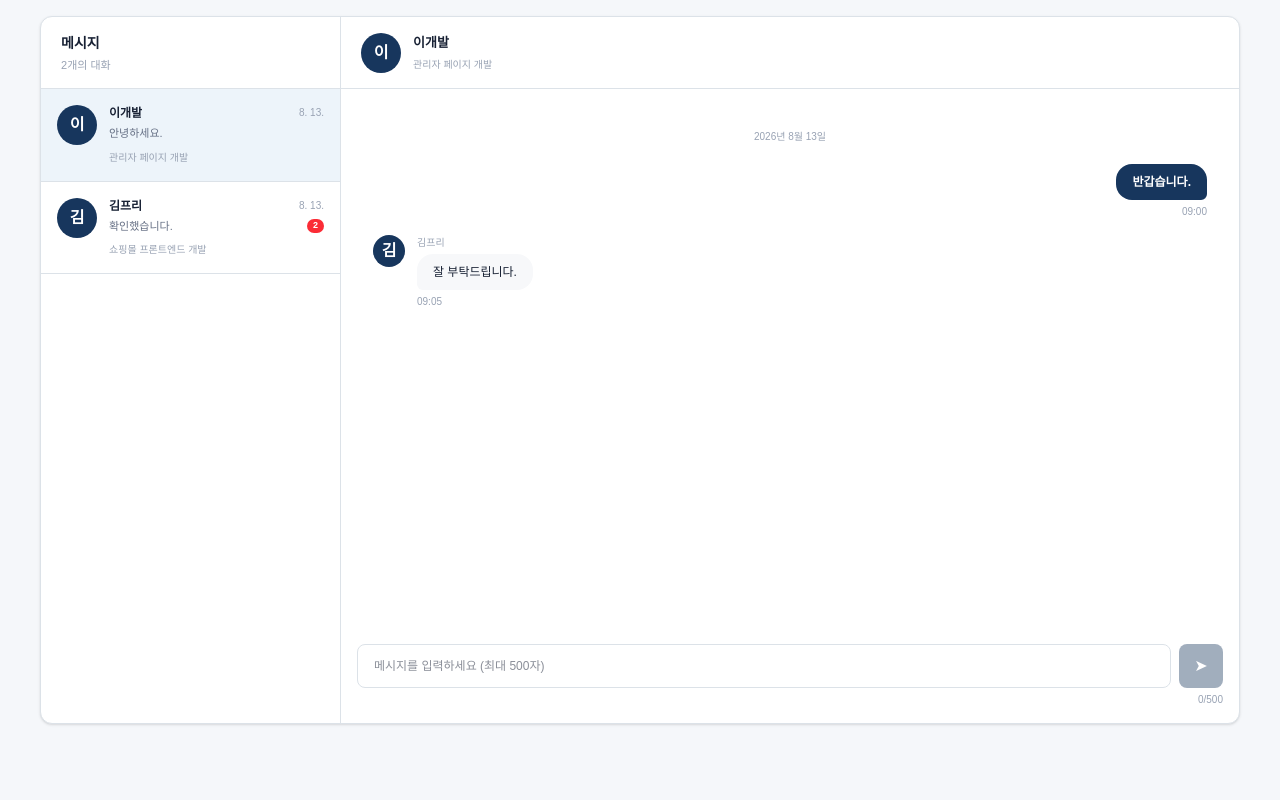
Test: Chat › 메시지 전송 실패 시 입력값을 유지하고 오류 코드 안내를 표시한다
This screenshot has width=1280, height=800.
In the field labelled "메시지": (764, 666) [357, 644, 1171, 688], type "실패 메시지"
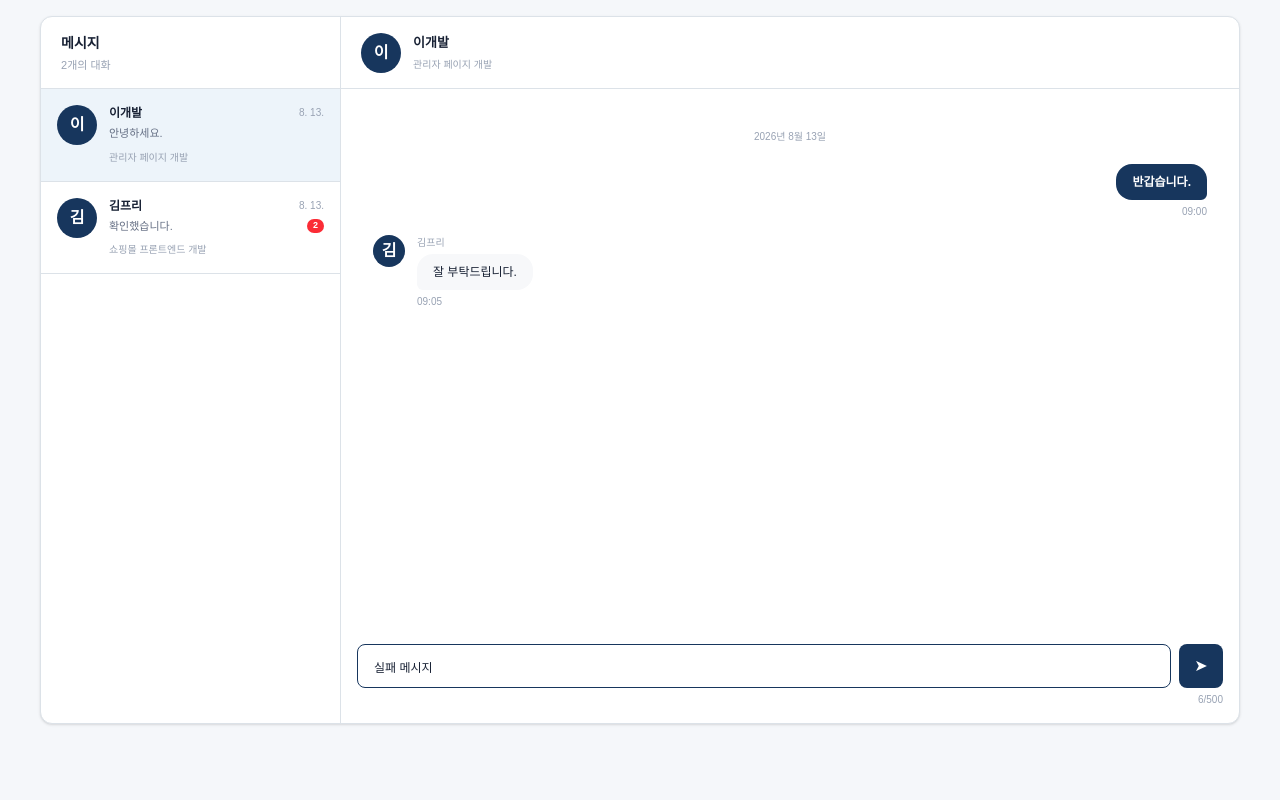
Click the button named "메시지 보내기": (1201, 666) [1179, 644, 1223, 688]
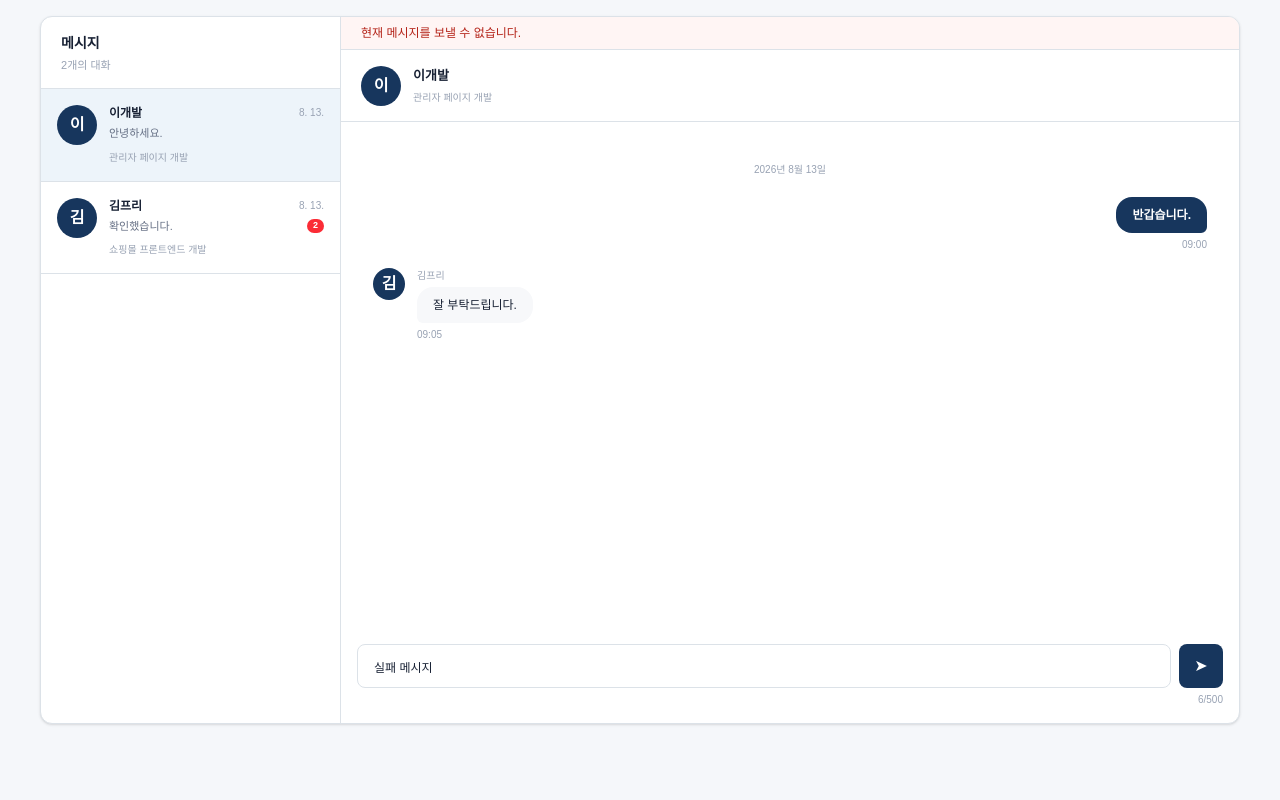
Now the message reads "현재 메시지를 보낼 수 없습니다.", box [361, 26, 521, 40]
